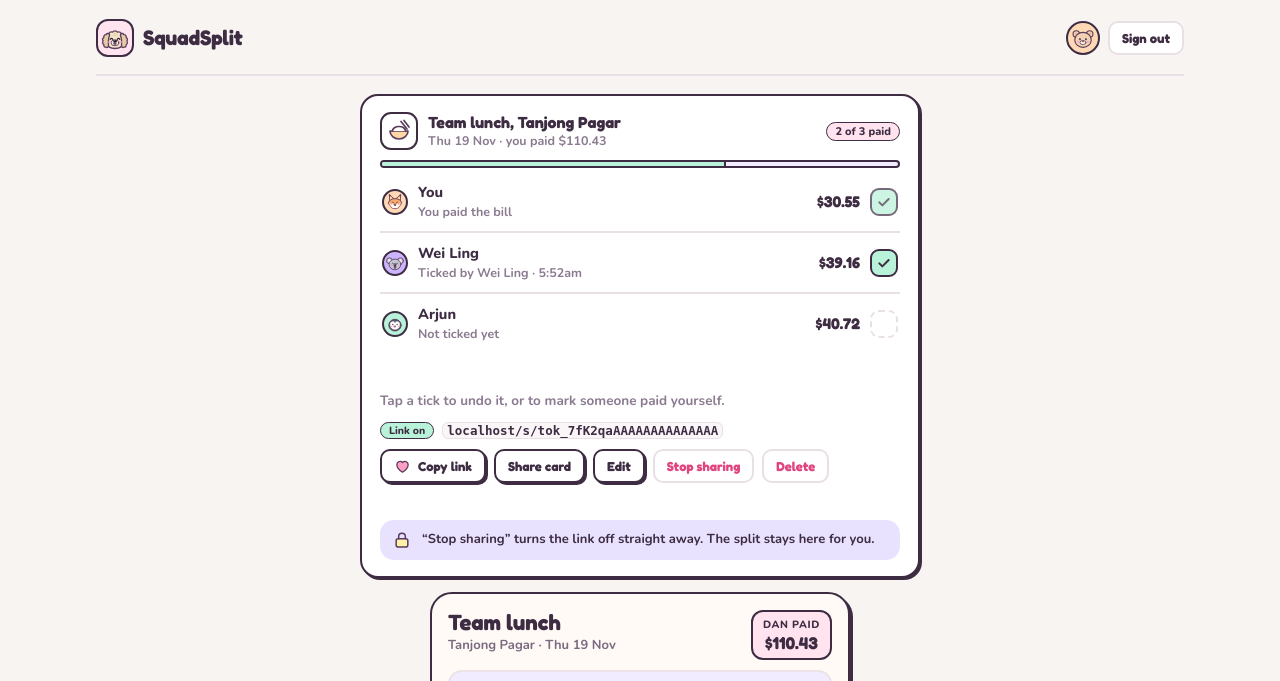
it: the payer's quick split page › stops sharing after a confirm, and then says the link is off
The image size is (1280, 681).
Click the button "Stop sharing".
click(704, 466)  # box 653,449 -> 754,483
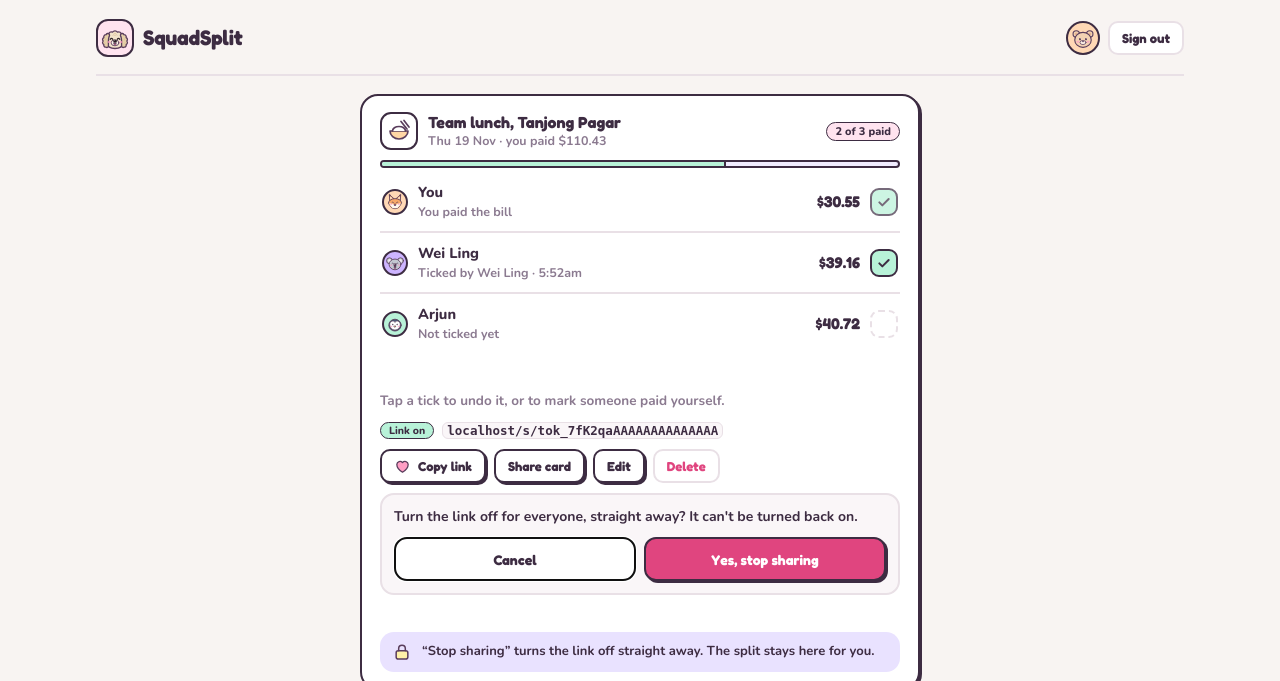
Click the button "Yes, stop sharing".
click(765, 559)  # box 644,537 -> 886,581
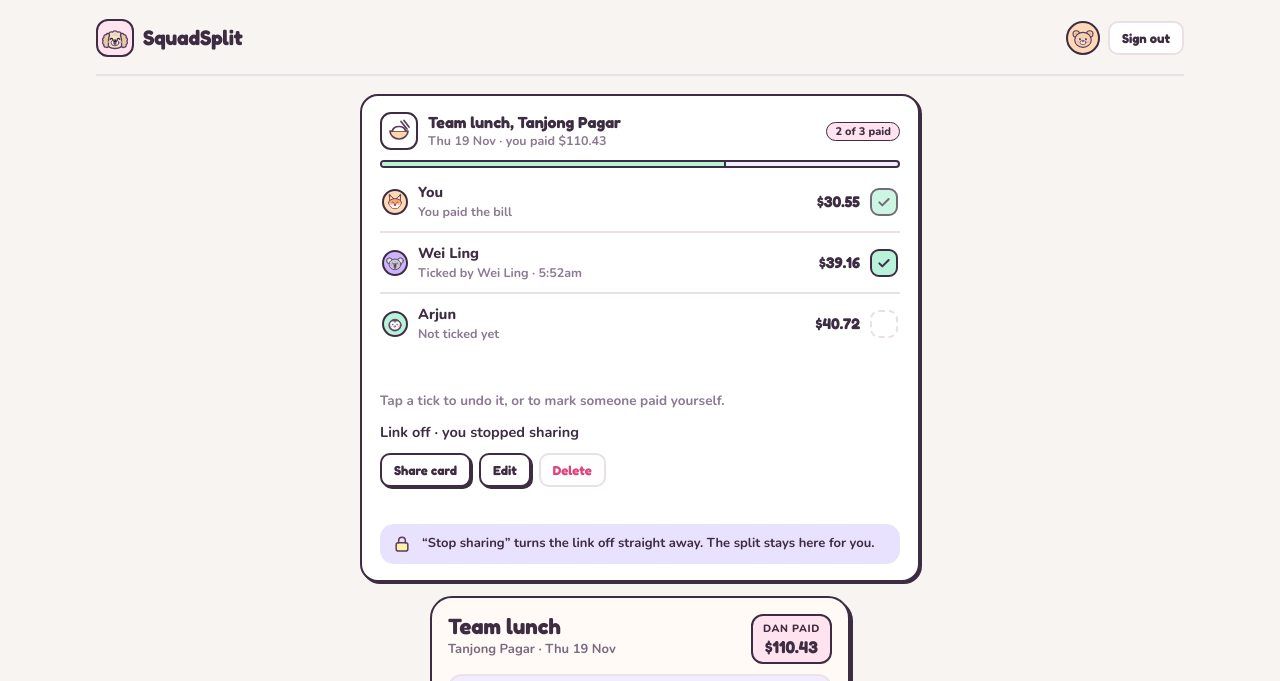
expect the text "Link off · you stopped sharing" is shown: met, box 380,422 -> 579,443
expect the button "Copy link" is gone: met
